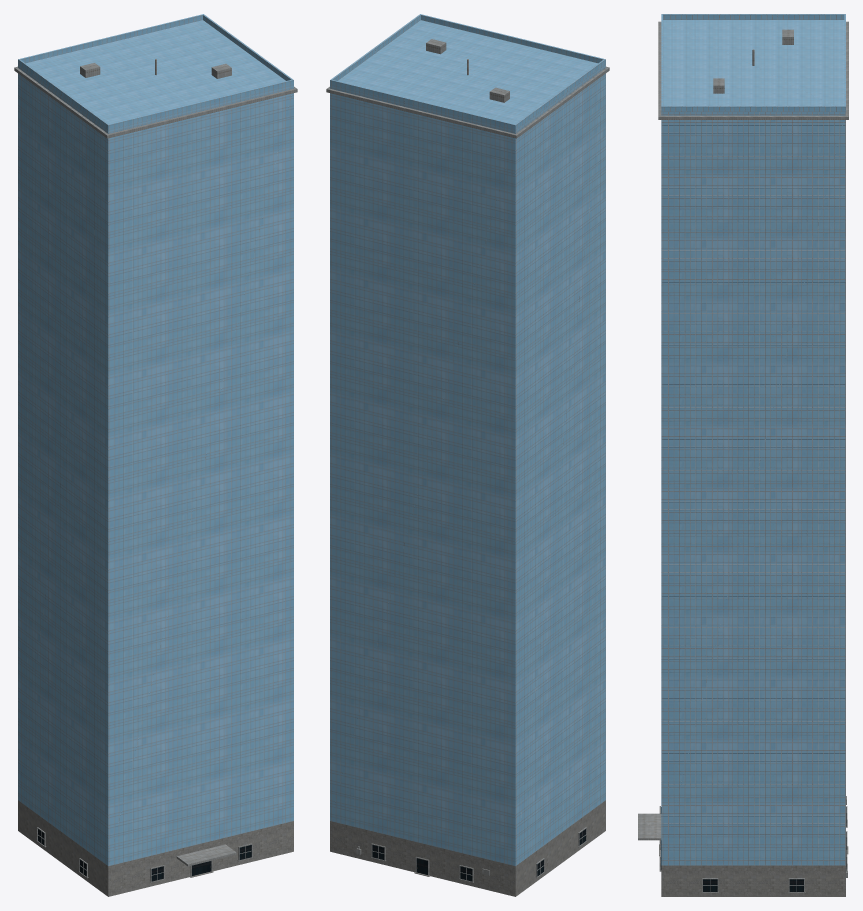
The model's file is woodward-plaza-tower_lod0.gltf.
3 views of the same model, side by side, from view 1: azimuth 30°, elevation 25°; view 2: azimuth 150°, elevation 25°; view 3: azimuth 270°, elevation 25° (orthographic). The views are drawn at different scales.
Visible parts, largest first — view 1: woodward-plaza-tower_upper, woodward-plaza-tower_base, woodward-plaza-tower__cornice, woodward-plaza-tower__parapet_front, woodward-plaza-tower__parapet_back, woodward-plaza-tower_fen_07-glass-curtain-blue_1_t, woodward-plaza-tower__canopy, woodward-plaza-tower__parapet_left, woodward-plaza-tower__parapet_right; view 2: woodward-plaza-tower_upper, woodward-plaza-tower_base, woodward-plaza-tower__cornice, woodward-plaza-tower__parapet_back, woodward-plaza-tower__parapet_front, woodward-plaza-tower_fen_07-glass-curtain-blue_1_t, woodward-plaza-tower__parapet_left, woodward-plaza-tower__parapet_right, woodward-plaza-tower_fen_14-steel-panel_0; view 3: woodward-plaza-tower_upper, woodward-plaza-tower_base, woodward-plaza-tower__cornice, woodward-plaza-tower__parapet_left, woodward-plaza-tower__parapet_right, woodward-plaza-tower__canopy, woodward-plaza-tower_fen_07-glass-curtain-blue_1_t, woodward-plaza-tower_fen_14-steel-panel_0.
Boxes of the visible parts, bbox=[...] form: woodward-plaza-tower_upper: bbox=[18, 20, 293, 866]; woodward-plaza-tower_base: bbox=[18, 800, 293, 896]; woodward-plaza-tower__cornice: bbox=[14, 66, 297, 138]; woodward-plaza-tower__parapet_front: bbox=[107, 79, 293, 130]; woodward-plaza-tower__parapet_back: bbox=[18, 14, 203, 64]; woodward-plaza-tower_fen_07-glass-curtain-blue_1_t: bbox=[38, 829, 251, 881]; woodward-plaza-tower__canopy: bbox=[176, 844, 236, 866]; woodward-plaza-tower__parapet_left: bbox=[19, 59, 108, 129]; woodward-plaza-tower__parapet_right: bbox=[203, 14, 292, 80]; woodward-plaza-tower_upper: bbox=[330, 20, 605, 866]; woodward-plaza-tower_base: bbox=[330, 800, 605, 896]; woodward-plaza-tower__cornice: bbox=[326, 66, 609, 138]; woodward-plaza-tower__parapet_back: bbox=[330, 79, 516, 130]; woodward-plaza-tower__parapet_front: bbox=[420, 14, 605, 64]; woodward-plaza-tower_fen_07-glass-curtain-blue_1_t: bbox=[372, 829, 585, 881]; woodward-plaza-tower__parapet_left: bbox=[515, 59, 604, 129]; woodward-plaza-tower__parapet_right: bbox=[331, 14, 420, 80]; woodward-plaza-tower_fen_14-steel-panel_0: bbox=[356, 827, 587, 882]; woodward-plaza-tower_upper: bbox=[661, 20, 845, 865]; woodward-plaza-tower_base: bbox=[661, 865, 845, 896]; woodward-plaza-tower__cornice: bbox=[658, 21, 848, 119]; woodward-plaza-tower__parapet_left: bbox=[663, 14, 844, 19]; woodward-plaza-tower__parapet_right: bbox=[663, 106, 844, 111]; woodward-plaza-tower__canopy: bbox=[638, 813, 661, 840]; woodward-plaza-tower_fen_07-glass-curtain-blue_1_t: bbox=[661, 807, 846, 891]; woodward-plaza-tower_fen_14-steel-panel_0: bbox=[659, 796, 847, 892].
Size of the model in its own units: 39 by 153 by 36.5.
